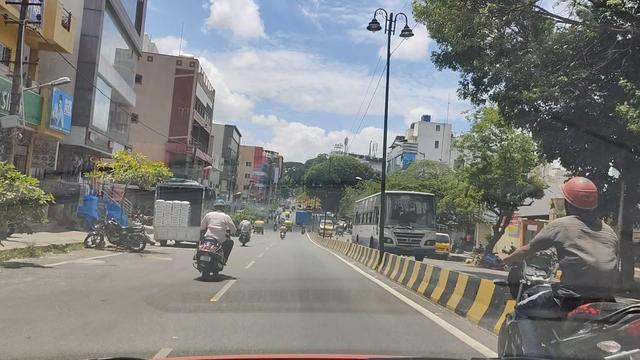LMV: (194, 198, 241, 281)
